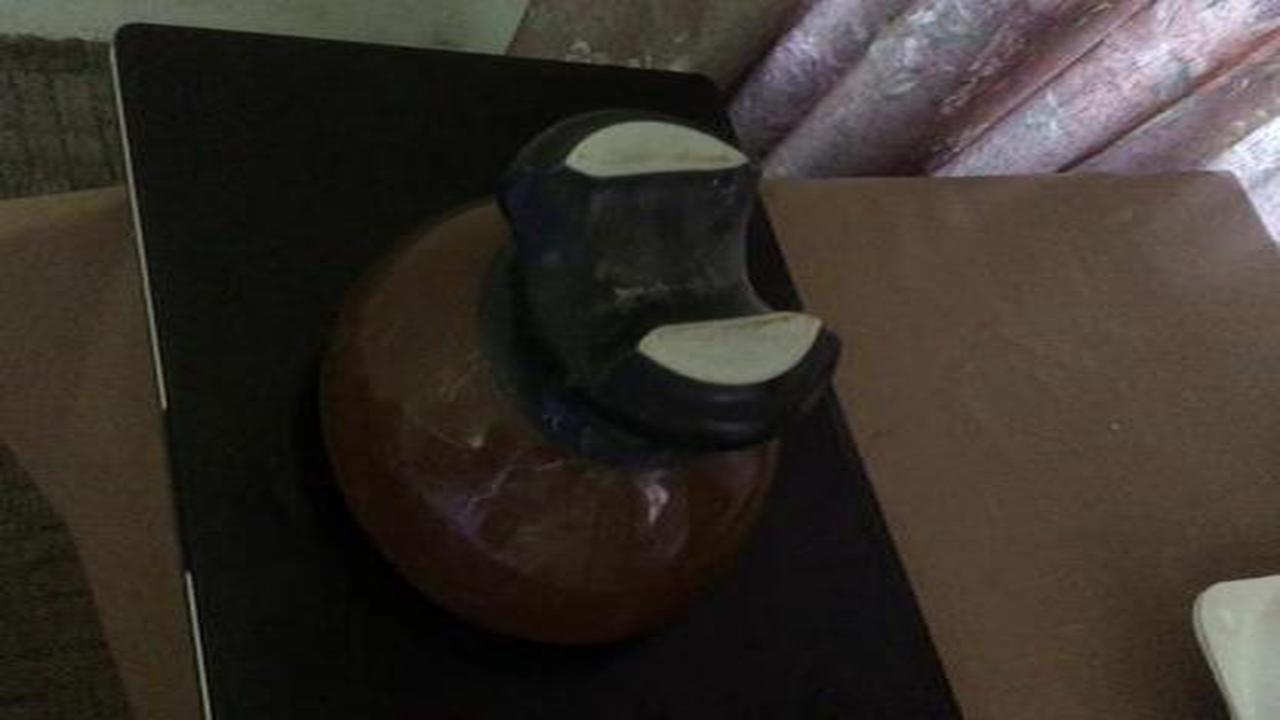insulator_pin: (308, 99, 856, 674)
